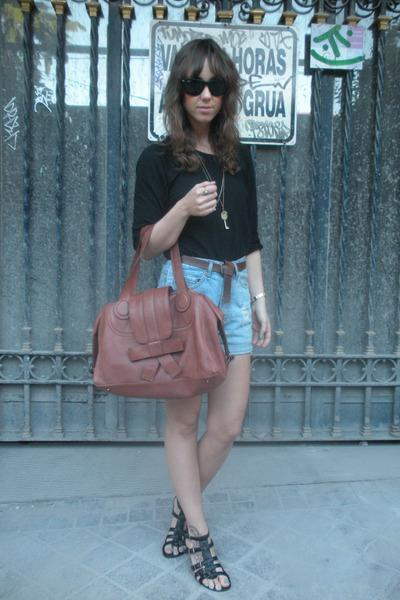bag: (93, 246, 227, 409)
shirt: (121, 136, 262, 264)
shoe: (188, 531, 213, 557)
shorts: (158, 259, 251, 353)
sunglass: (180, 69, 238, 107)
